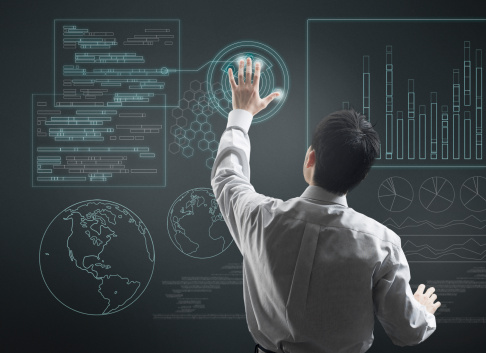em pe: (200, 98, 439, 352)
